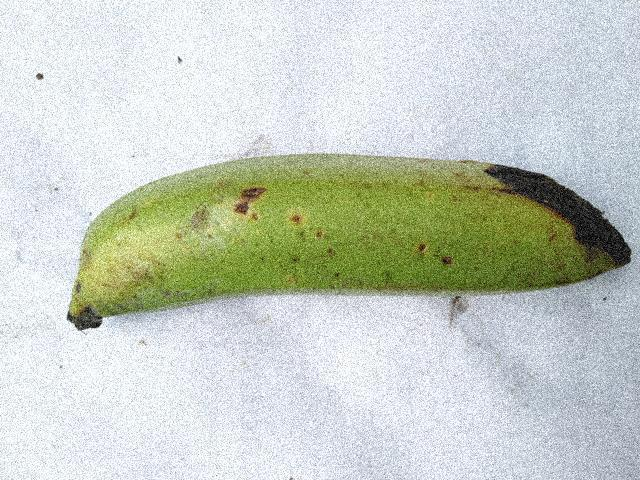rotten: (474, 156, 639, 290)
unripe: (45, 136, 539, 326)
